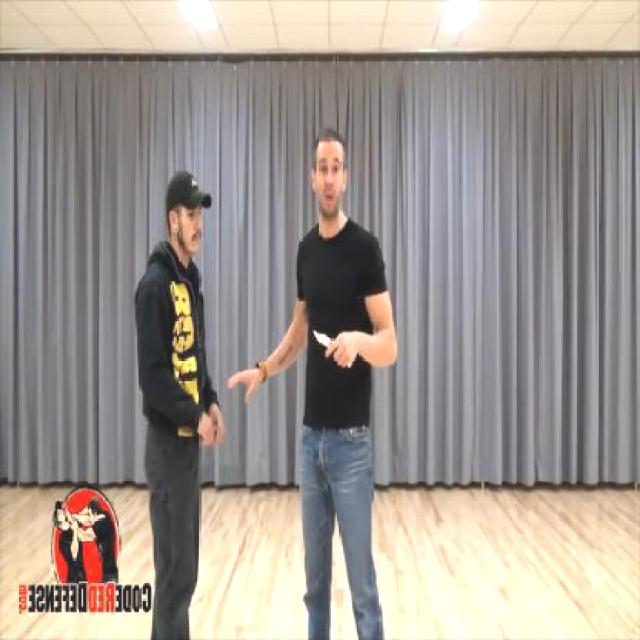knife: (311, 323, 355, 372)
